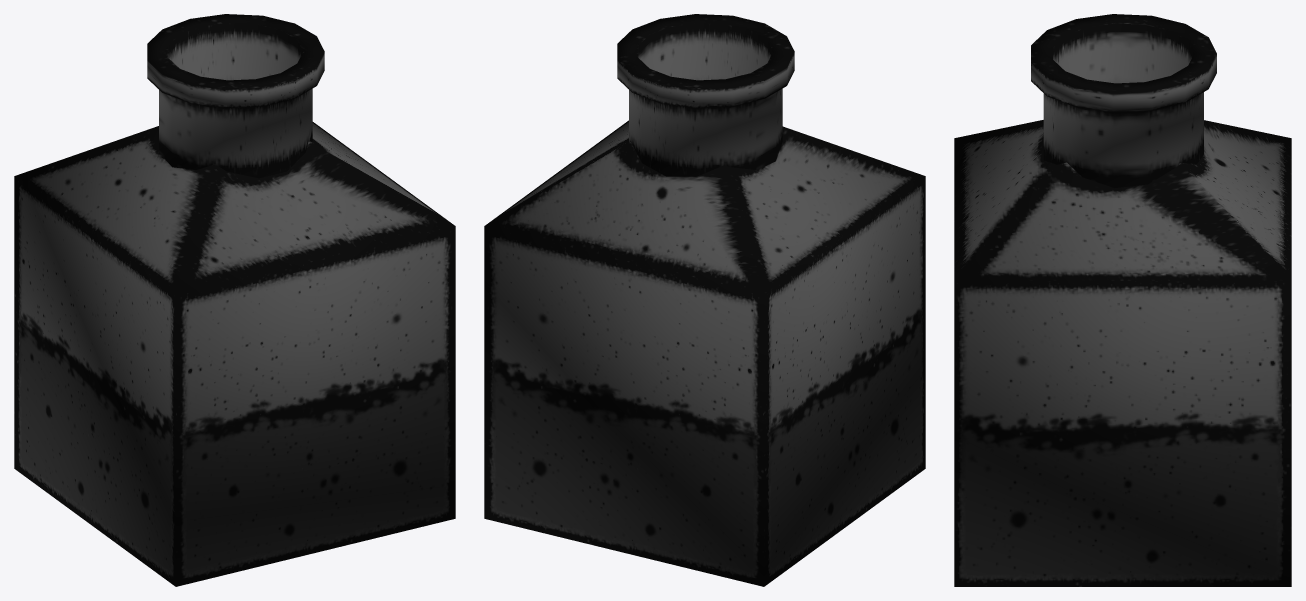
File: inkBottle.obj
The picture shows the model from 3 angles, left to right: view 1: azimuth 30°, elevation 25°; view 2: azimuth 150°, elevation 25°; view 3: azimuth 270°, elevation 25°; orthographic projection. The views are drawn at different scales.
Visible parts, largest first — view 1: inkBottle; view 2: inkBottle; view 3: inkBottle.
Boxes of the visible parts, x1,y1,x2,y2 form: inkBottle: [14, 14, 455, 586]; inkBottle: [484, 14, 925, 586]; inkBottle: [954, 14, 1291, 586].
Bounding box in the file's own units: 0.3246 × 0.4902 × 0.3246.
